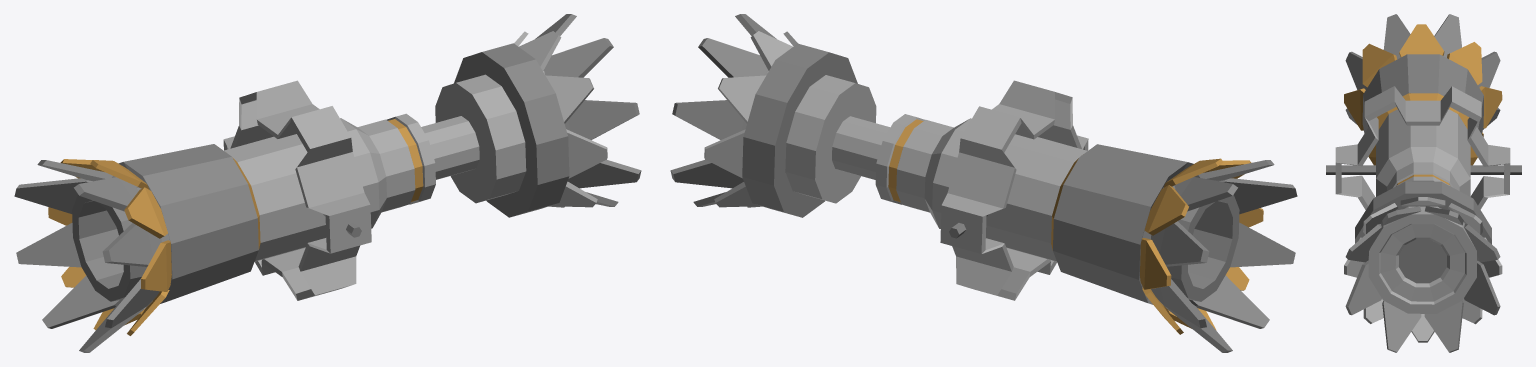
The model's file is Props_Laser.glb.
3 views of the same model, side by side, from view 1: azimuth 30°, elevation 25°; view 2: azimuth 150°, elevation 25°; view 3: azimuth 270°, elevation 25° (orthographic). The views are drawn at different scales.
Parts seen in each view (by area): view 1: Props_Laser; view 2: Props_Laser; view 3: Props_Laser.
Boxes of the visible parts, <box> form: Props_Laser: <box>14,14,641,352</box>; Props_Laser: <box>670,14,1297,352</box>; Props_Laser: <box>1326,14,1521,352</box>.
Size of the model in its own units: 3.84 by 1.29 by 1.46.
